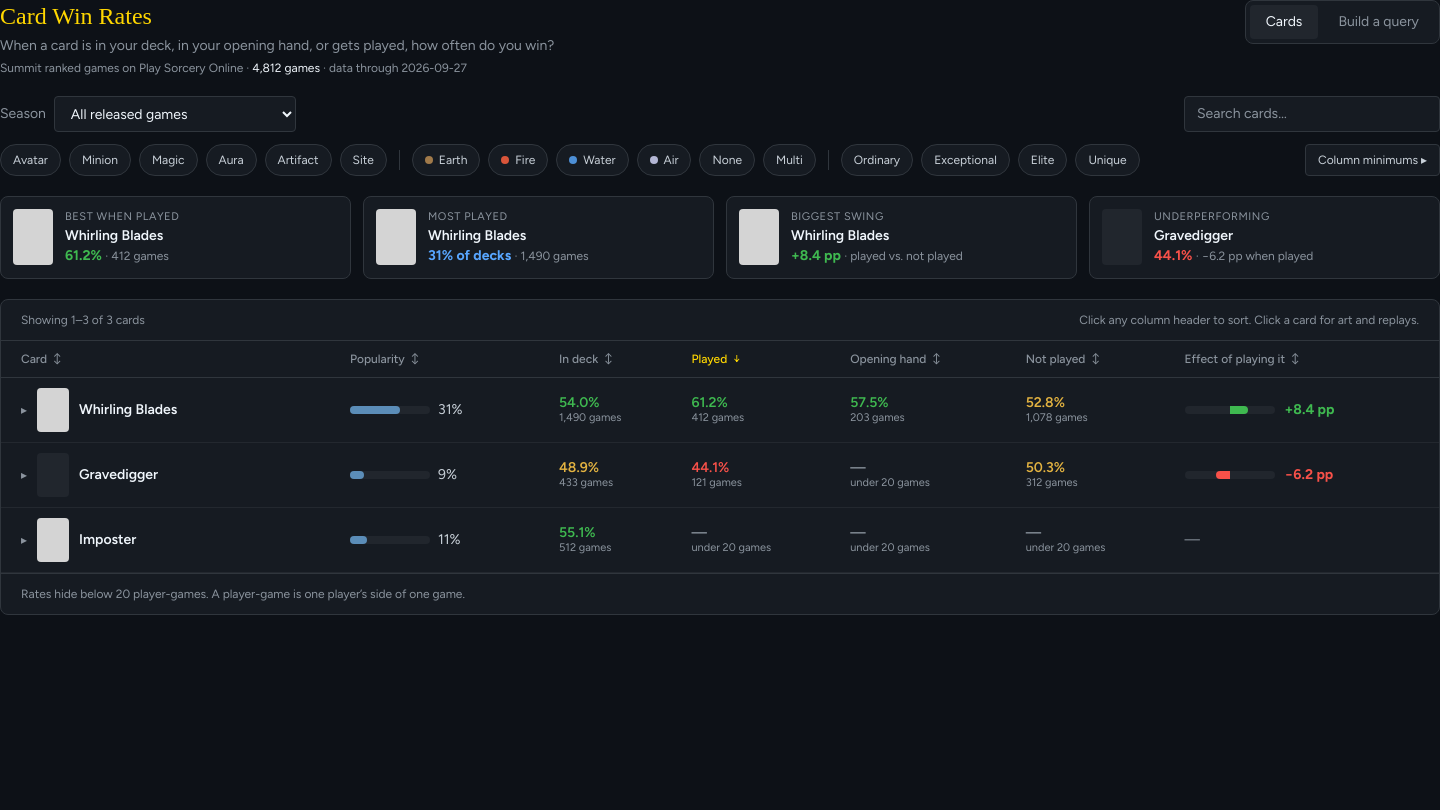
Test: CardPlayedWinrates › expands a card into art and replay clips
Expected: the row "Whirling Blades" is shown, [1,377,1439,442]
What coordinates should you click on to do the following:
click the button "▸ Whirling Blades"
I would click on:
 (99, 410)
Its box is [21,388,177,432].
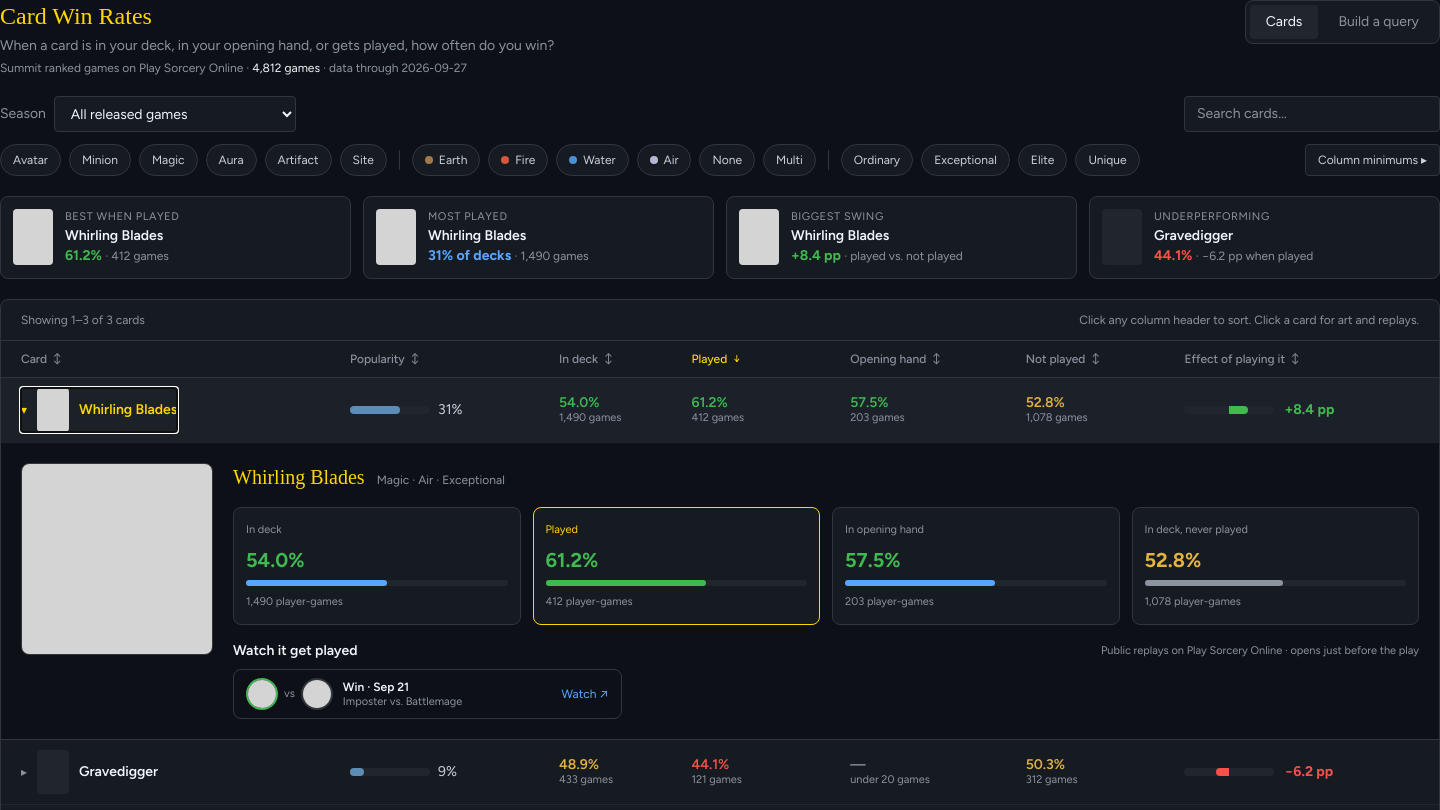
Expected: the text "In deck, never played" is shown, [1144,522,1248,536]
